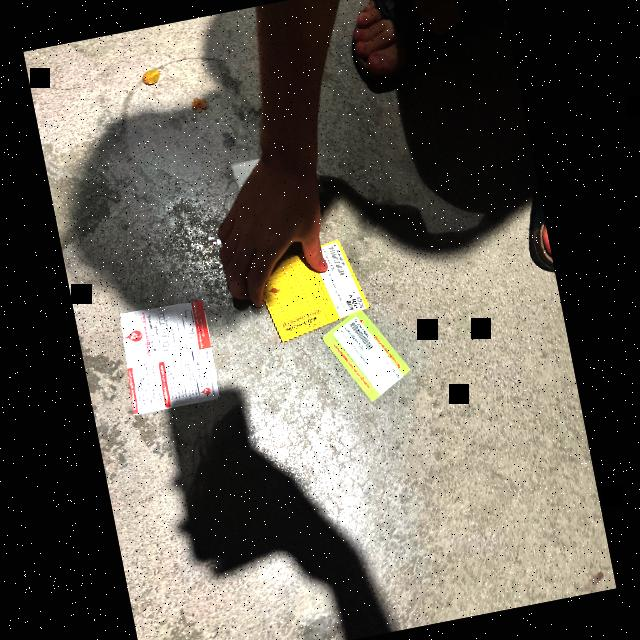scrap_paper: (105, 288, 228, 422), (250, 226, 378, 345), (313, 300, 417, 410)
